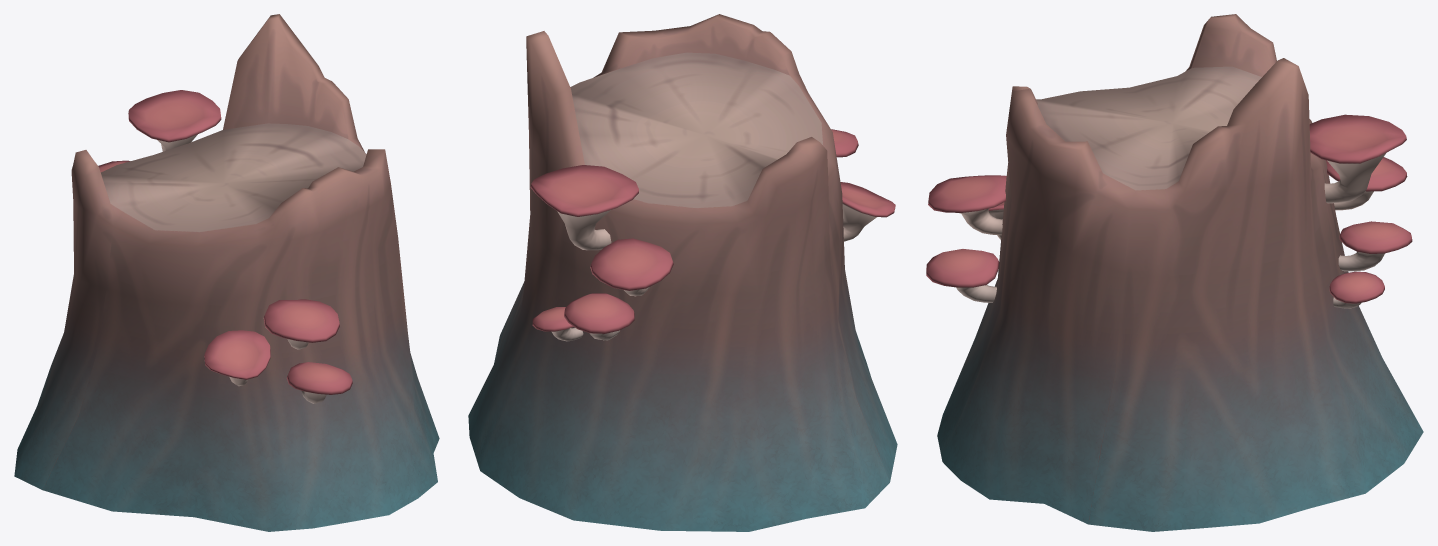
The picture shows the model from 3 angles, left to right: view 1: azimuth 30°, elevation 25°; view 2: azimuth 150°, elevation 25°; view 3: azimuth 270°, elevation 25°; orthographic projection. The views are drawn at different scales.
Visible parts, largest first — view 1: submesh_0; view 2: submesh_0; view 3: submesh_0.
Part boxes in pixels (x1,y1,x2,y2): submesh_0: (14,14,439,531); submesh_0: (468,14,897,531); submesh_0: (926,14,1423,531).
Bounding box in the file's own units: 1.14 × 1.13 × 1.19.
Materials: 1 (1 with a texture image).
